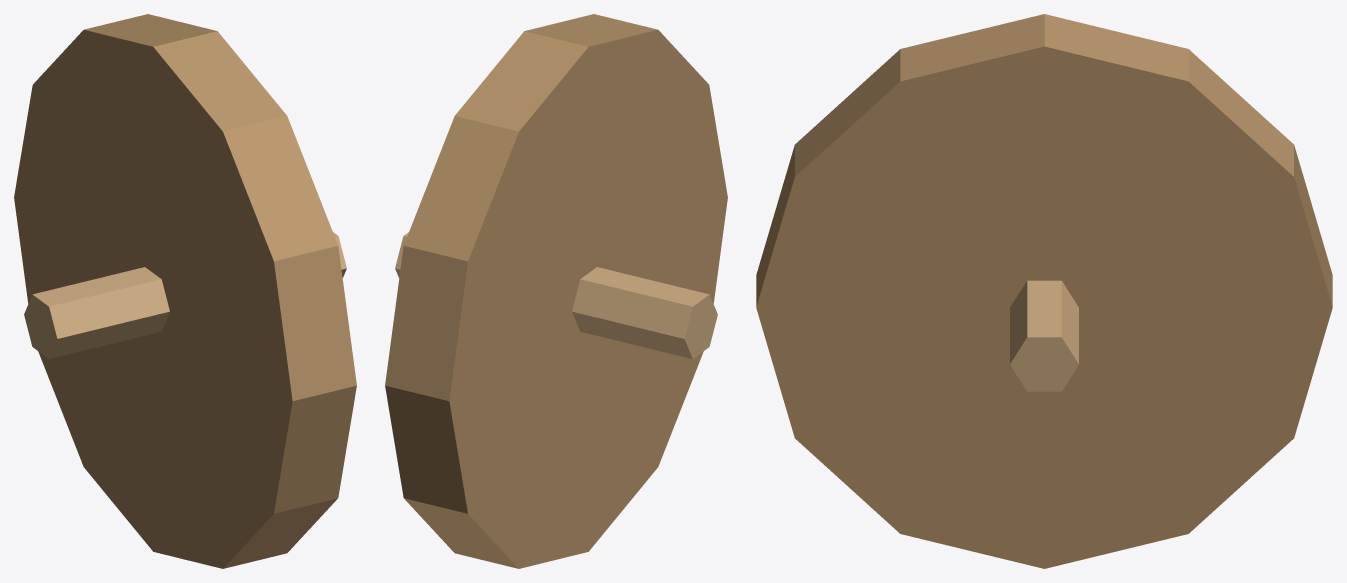
Rendered from prop-gurdy-wheel-blank.fbx.
3 renders of one model, left to right at view 1: azimuth 30°, elevation 25°; view 2: azimuth 150°, elevation 25°; view 3: azimuth 270°, elevation 25°, orthographic. The views are drawn at different scales.
Parts seen in each view (by area): view 1: prop-gurdy-wheel-blank; view 2: prop-gurdy-wheel-blank; view 3: prop-gurdy-wheel-blank.
Boxes of the visible parts, x1,y1,x2,y2 form: prop-gurdy-wheel-blank: [14, 14, 356, 568]; prop-gurdy-wheel-blank: [385, 14, 727, 568]; prop-gurdy-wheel-blank: [756, 14, 1332, 568].
Size of the model in its own units: 9 by 15 by 15.
